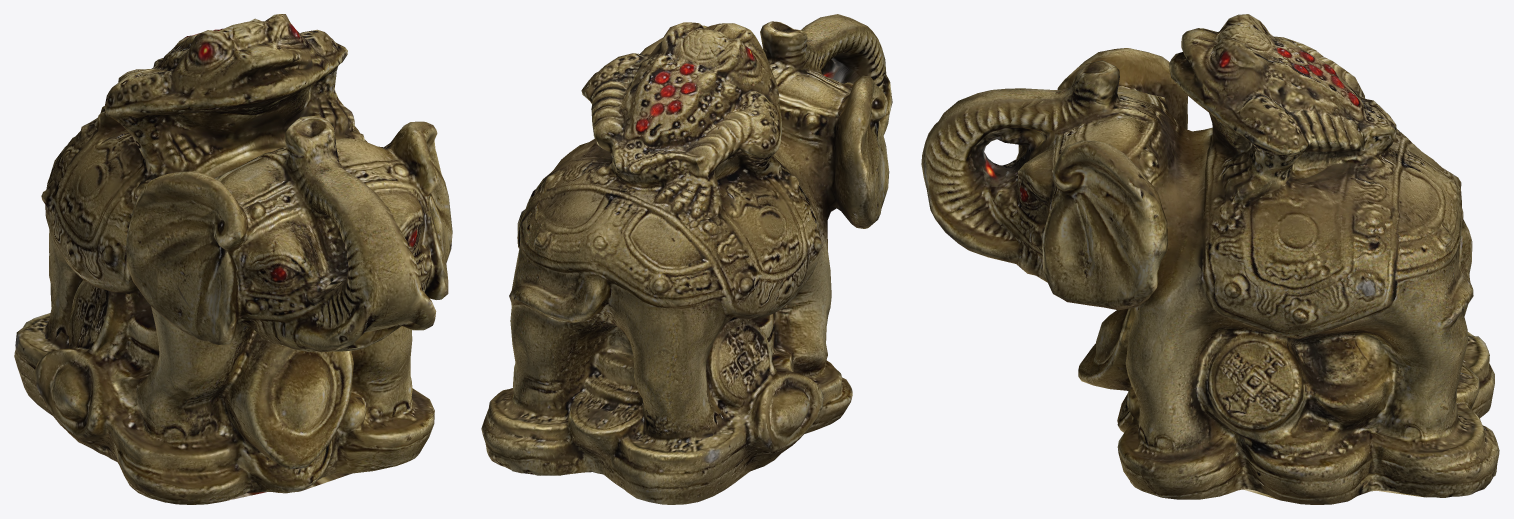
The model's file is elephant.fbx.
3 views of the same model, side by side, from view 1: azimuth 30°, elevation 25°; view 2: azimuth 150°, elevation 25°; view 3: azimuth 270°, elevation 25° (orthographic). The views are drawn at different scales.
Visible parts, largest first — view 1: 3DModel_LowPoly.001; view 2: 3DModel_LowPoly.001; view 3: 3DModel_LowPoly.001.
Boxes of the visible parts, box(x1,y1,x2,y2) form: 3DModel_LowPoly.001: box(14, 14, 452, 504); 3DModel_LowPoly.001: box(481, 14, 892, 504); 3DModel_LowPoly.001: box(921, 14, 1499, 504).
Bounding box in the file's own units: 1.79 × 2.3 × 2.96.
